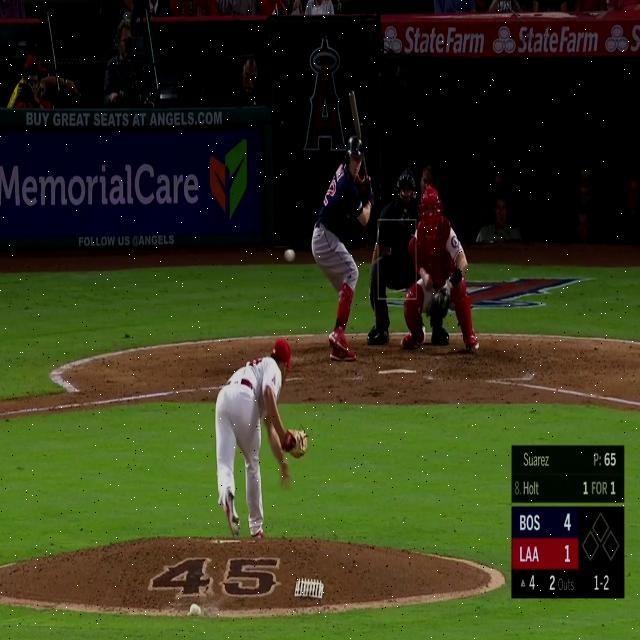baseball: (285, 249, 295, 262)
